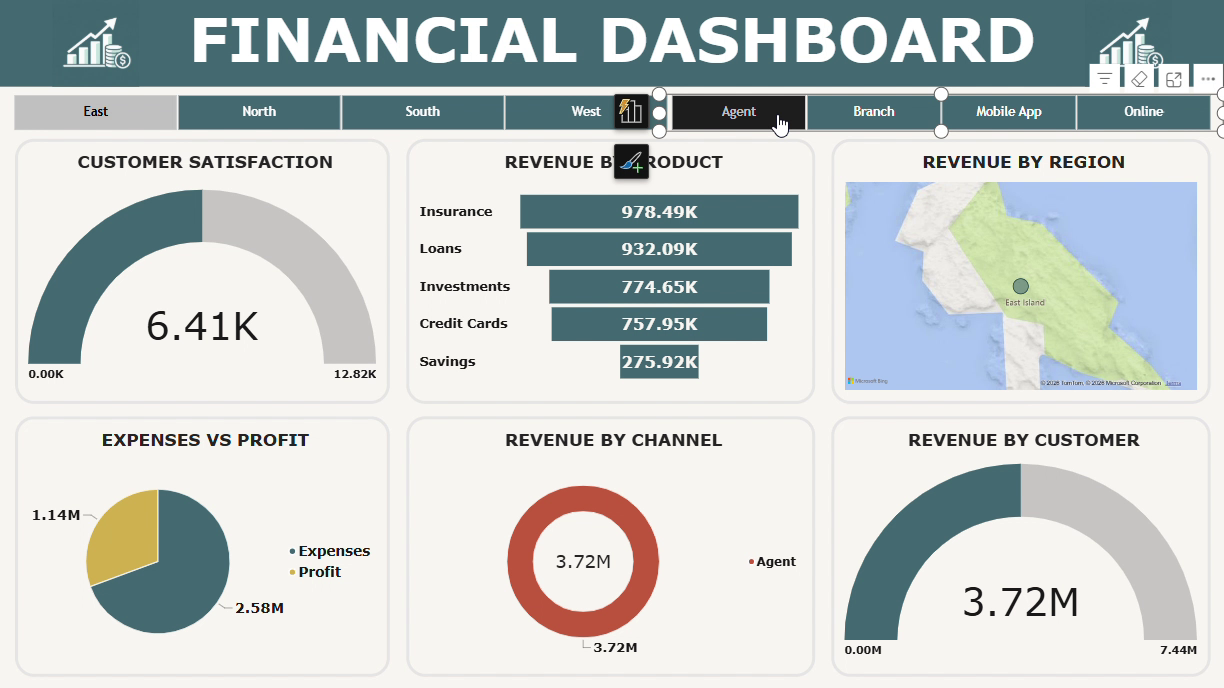

The dashboard page shown, as its layout file describes it:
{"tool":"powerbi","page":{"name":"Page 1","canvas":[1920,1080],"ordinal":0},"visuals":[{"type":"textbox","box":[0,0,1921.1,136],"z":0},{"type":"gauge","title":"CUSTOMER SATISFACTION","fields":{"Y":["Sum(0_financial_dashboard_dataset.Customer_Satisfaction)"]},"box":[23.4,216.8,587.7,415.7],"z":1000},{"type":"pieChart","title":"EXPENSES VS PROFIT","fields":{"Y":["Sum(0_financial_dashboard_dataset.Expenses)","Sum(0_financial_dashboard_dataset.Profit)"]},"box":[23.4,652.2,587.7,408.5],"z":2000},{"type":"donutChart","title":"REVENUE BY CHANNEL","fields":{"Category":["0_financial_dashboard_dataset.Channel"],"Y":["Sum(0_financial_dashboard_dataset.Revenue)"]},"box":[638,652.2,641.4,408.5],"z":3000},{"type":"map","title":"REVENUE BY REGION","fields":{"Category":["0_financial_dashboard_dataset.Region"],"Size":["Sum(0_financial_dashboard_dataset.Revenue)"]},"box":[1304.5,216.8,594.8,415.7],"z":4000},{"type":"gauge","title":"REVENUE BY CUSTOMER","fields":{"Y":["Sum(0_financial_dashboard_dataset.Revenue)"]},"box":[1304.5,652.2,594.8,408.5],"z":5000},{"type":"funnel","title":"REVENUE BY PRODUCT","fields":{"Category":["0_financial_dashboard_dataset.Product"],"Y":["Sum(0_financial_dashboard_dataset.Revenue)"]},"box":[638,216.8,641.4,415.7],"z":6000},{"type":"slicer","fields":{"Values":["0_financial_dashboard_dataset.Region"]},"box":[1.2,147.3,1064,58.7],"z":7000},{"type":"slicer","fields":{"Values":["0_financial_dashboard_dataset.Channel"]},"box":[1034.2,147.3,884.8,58.7],"z":8000},{"type":"image","box":[0,0,300,136],"z":9000},{"type":"image","box":[1620,0,300,136],"z":10000}]}

Visuals, with their boxes on the page's 1920x1080 design canvas (x1, y1, x2, y2). These are canvas units, not pixel positions in the 1224x688 screenshot, which may show the page scaled, cropped or inside an application window:
textbox: {"left": 0, "top": 0, "right": 1921, "bottom": 136}
"CUSTOMER SATISFACTION" gauge: {"left": 23, "top": 217, "right": 611, "bottom": 632}
"EXPENSES VS PROFIT" pieChart: {"left": 23, "top": 652, "right": 611, "bottom": 1061}
"REVENUE BY CHANNEL" donutChart: {"left": 638, "top": 652, "right": 1279, "bottom": 1061}
"REVENUE BY REGION" map: {"left": 1304, "top": 217, "right": 1899, "bottom": 632}
"REVENUE BY CUSTOMER" gauge: {"left": 1304, "top": 652, "right": 1899, "bottom": 1061}
"REVENUE BY PRODUCT" funnel: {"left": 638, "top": 217, "right": 1279, "bottom": 632}
slicer - 0_financial_dashboard_dataset.Region: {"left": 1, "top": 147, "right": 1065, "bottom": 206}
slicer - 0_financial_dashboard_dataset.Channel: {"left": 1034, "top": 147, "right": 1919, "bottom": 206}
image: {"left": 0, "top": 0, "right": 300, "bottom": 136}
image: {"left": 1620, "top": 0, "right": 1920, "bottom": 136}
